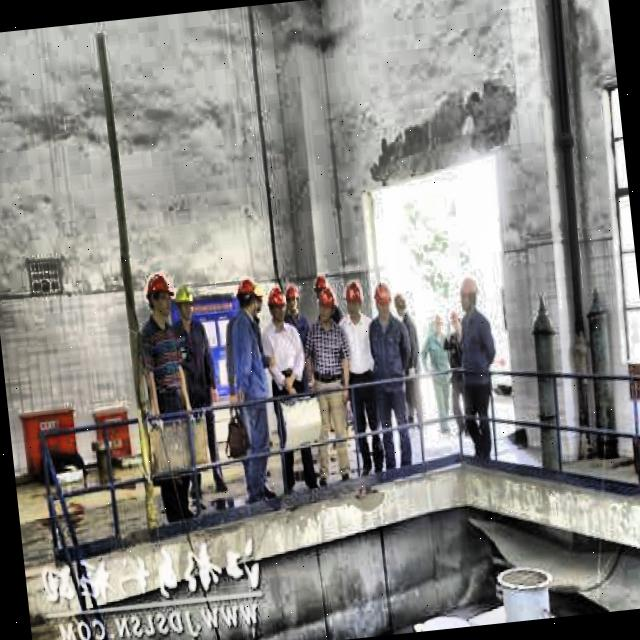helmet: (142, 266, 175, 328), (233, 271, 264, 326), (455, 270, 484, 317), (173, 278, 200, 324), (314, 285, 341, 329), (369, 280, 395, 324), (342, 278, 368, 322), (265, 280, 287, 324), (282, 282, 302, 316), (391, 290, 408, 318)
